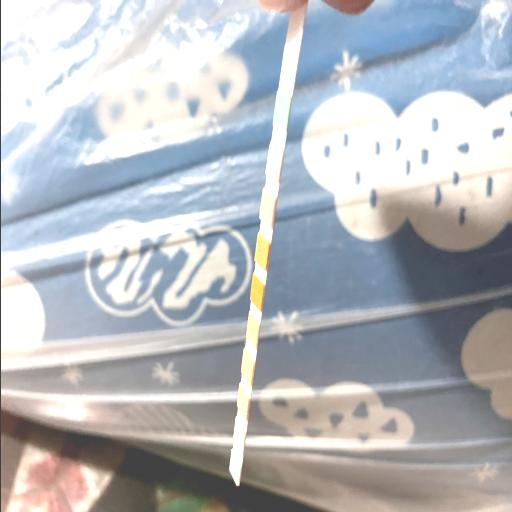Bilirubin: (268, 148, 278, 176)
Blood: (251, 279, 260, 303)
Glucose: (275, 96, 286, 128)
Ketone: (261, 195, 271, 221)
Leukocytes: (230, 456, 236, 476)
Nitrite: (234, 426, 240, 446)
Protein: (242, 358, 252, 376)
SpGravity: (256, 239, 266, 263)
Urobilinogen: (237, 393, 246, 409)
pH: (247, 320, 256, 339)
strip: (229, 6, 305, 487)
